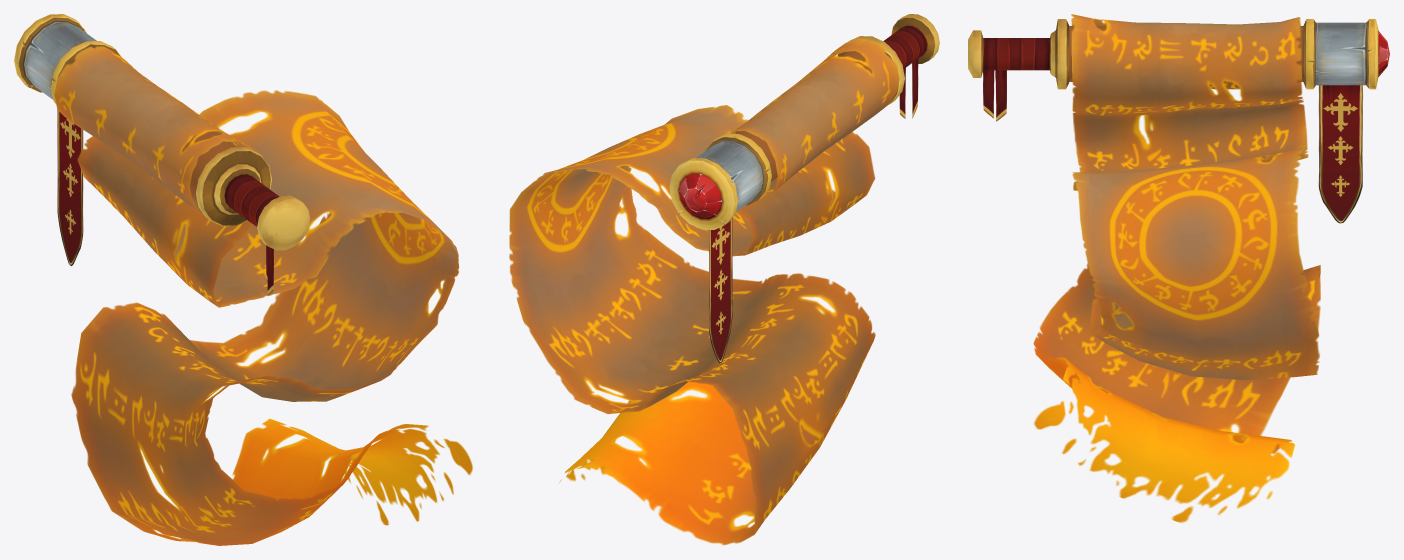
Rendered from scroll.gltf.
The picture shows the model from 3 angles, left to right: view 1: azimuth 30°, elevation 25°; view 2: azimuth 150°, elevation 25°; view 3: azimuth 270°, elevation 25°; orthographic projection. The views are drawn at different scales.
Bounding box in the file's own units: 111 × 184 × 162.
Materials: 1 (1 with a texture image).
